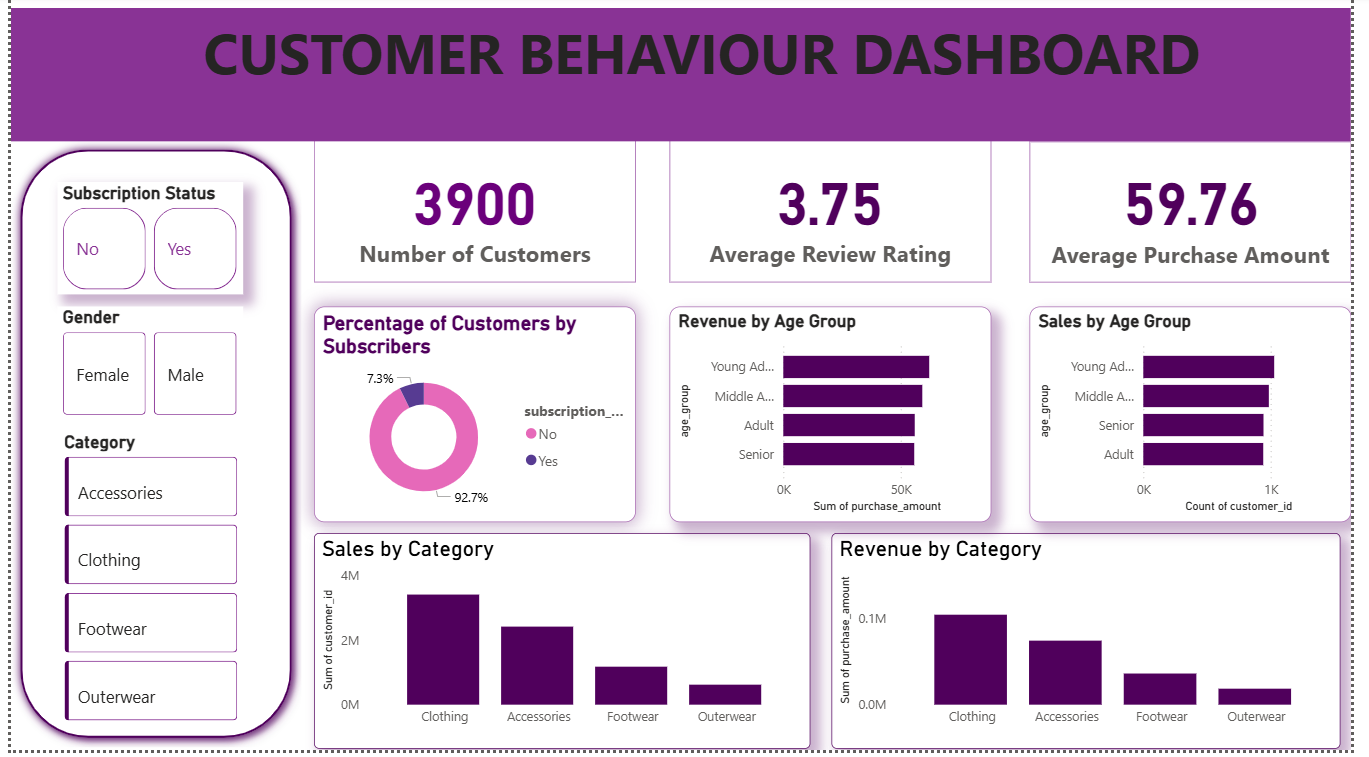

What the dashboard file says about the page in this screenshot:
{"tool":"powerbi","page":{"name":"Page 1","canvas":[1280,720],"ordinal":0},"visuals":[{"type":"card","fields":{"Values":["public customer.Number of Customers"]},"box":[289.2,137.8,307.4,136.3],"z":0},{"type":"card","fields":{"Values":["public customer.Average Review Rating"]},"box":[628.4,137.8,307.4,136.3],"z":1000},{"type":"card","fields":{"Values":["public customer.Average Purchase Amount"]},"box":[972.1,139.3,307.4,134.8],"z":2000},{"type":"textbox","box":[0,12.1,1279.5,127.2],"z":3000},{"type":"donutChart","title":"Percentage of Customers by Subscribers","fields":{"Category":["public customer.subscription_status"],"Y":["Sum(public customer.customer_id)"]},"box":[289.2,296.8,307.4,205.9],"z":4000},{"type":"clusteredColumnChart","title":"Revenue by Category","fields":{"Y":["Sum(public customer.purchase_amount)"],"Category":["public customer.category"]},"box":[782.8,513.3,486.1,205.9],"z":5000},{"type":"clusteredColumnChart","title":"Sales by Category","fields":{"Category":["public customer.category"],"Y":["Sum(public customer.customer_id)"]},"box":[289.2,513.3,473.9,205.9],"z":6000},{"type":"shape","box":[0,137.8,277.1,579.9],"z":7500},{"type":"advancedSlicerVisual","title":"Subscription Status","fields":{"Values":["public customer.subscription_status"]},"box":[43.9,177.2,177.2,107.5],"z":8000},{"type":"advancedSlicerVisual","title":"Category","fields":{"Values":["public customer.category"]},"box":[45.4,414.9,175.6,281.6],"z":9000},{"type":"clusteredBarChart","title":"Revenue by Age Group ","fields":{"Y":["Sum(public customer.purchase_amount)"],"Category":["public customer.age_group"]},"box":[628.4,296.8,307.4,205.9],"z":11000},{"type":"clusteredBarChart","title":"Sales by Age Group ","fields":{"Category":["public customer.age_group"],"Y":["CountNonNull(public customer.customer_id)"]},"box":[972.1,296.8,307.4,205.9],"z":12000},{"type":"advancedSlicerVisual","title":"Gender","fields":{"Values":["public customer.gender"]},"box":[43.9,296.8,177.2,109],"z":12001}]}

Visuals, with their boxes in screenshot pixels (x1, y1, x2, y2), scaled from the page's 1280x720 canvas onto the 1369x757 screenshot:
card - public customer.Number of Customers: box(309, 145, 638, 288)
card - public customer.Average Review Rating: box(672, 145, 1001, 288)
card - public customer.Average Purchase Amount: box(1040, 146, 1368, 288)
textbox: box(0, 13, 1368, 146)
"Percentage of Customers by Subscribers" donutChart: box(309, 312, 638, 529)
"Revenue by Category" clusteredColumnChart: box(837, 540, 1357, 756)
"Sales by Category" clusteredColumnChart: box(309, 540, 816, 756)
shape: box(0, 145, 296, 755)
"Subscription Status" advancedSlicerVisual: box(47, 186, 236, 299)
"Category" advancedSlicerVisual: box(49, 436, 236, 732)
"Revenue by Age Group " clusteredBarChart: box(672, 312, 1001, 529)
"Sales by Age Group " clusteredBarChart: box(1040, 312, 1368, 529)
"Gender" advancedSlicerVisual: box(47, 312, 236, 427)
